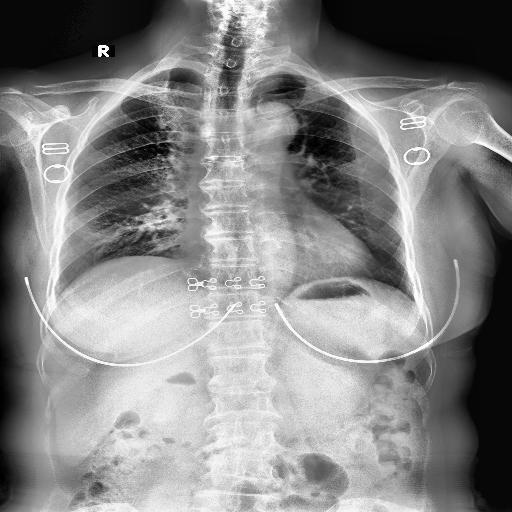0- Aortic enlargement: (237, 98, 297, 154), (240, 102, 300, 150), (250, 100, 300, 140)
3- Cardiomegaly: (184, 226, 384, 290), (184, 243, 378, 282)
